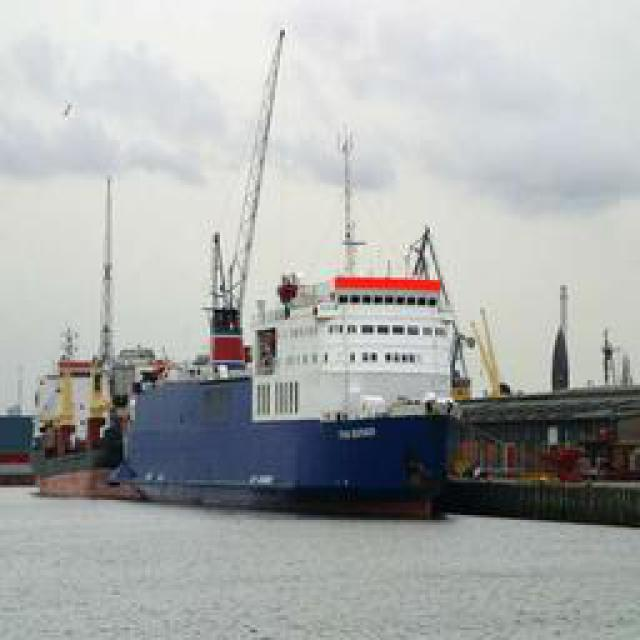Ship: (104, 44, 499, 499)
